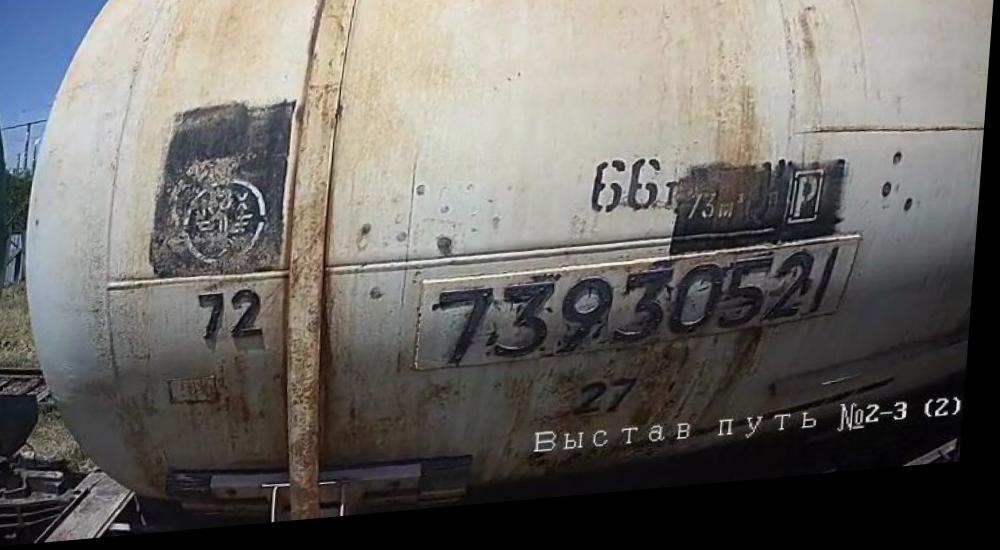Wagon-number: (432, 264, 843, 380)
